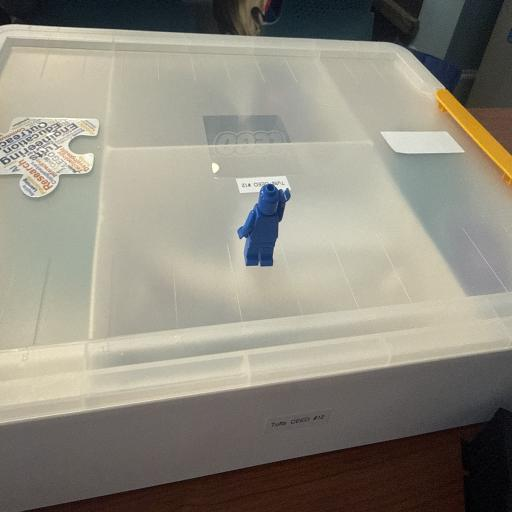Minifig: (237, 184, 290, 266)
